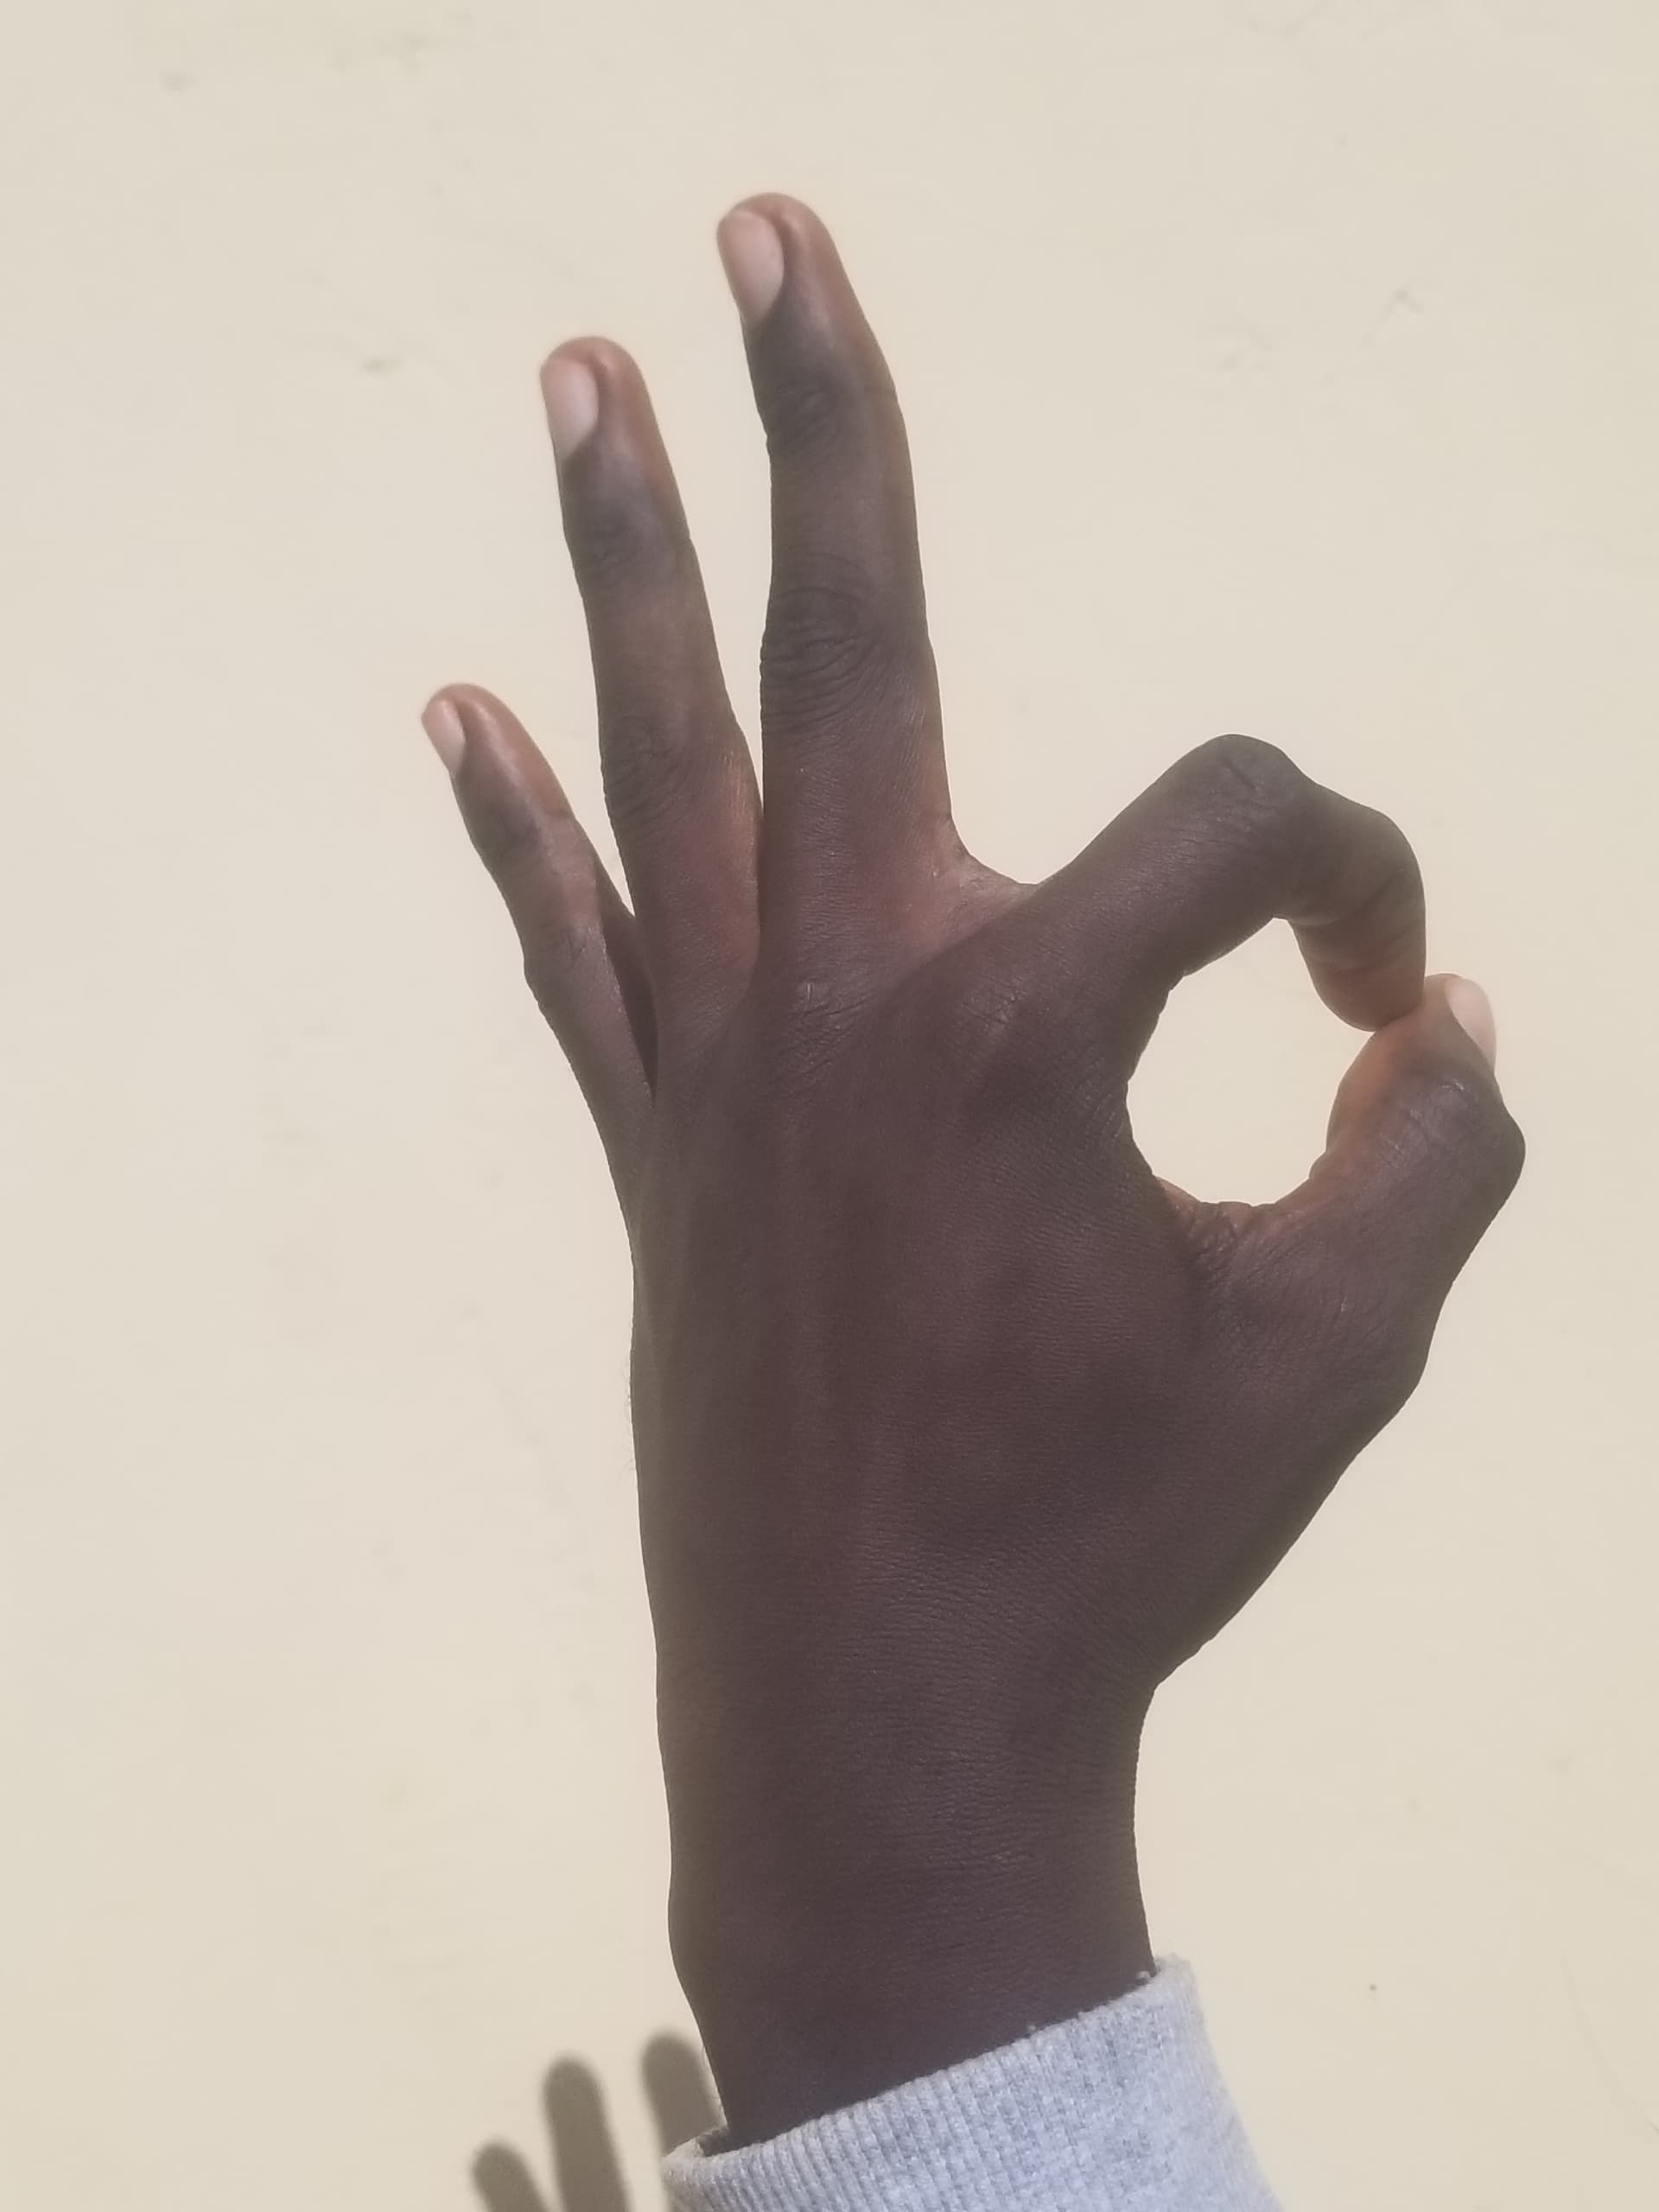okay: (295, 155, 1542, 1878)
